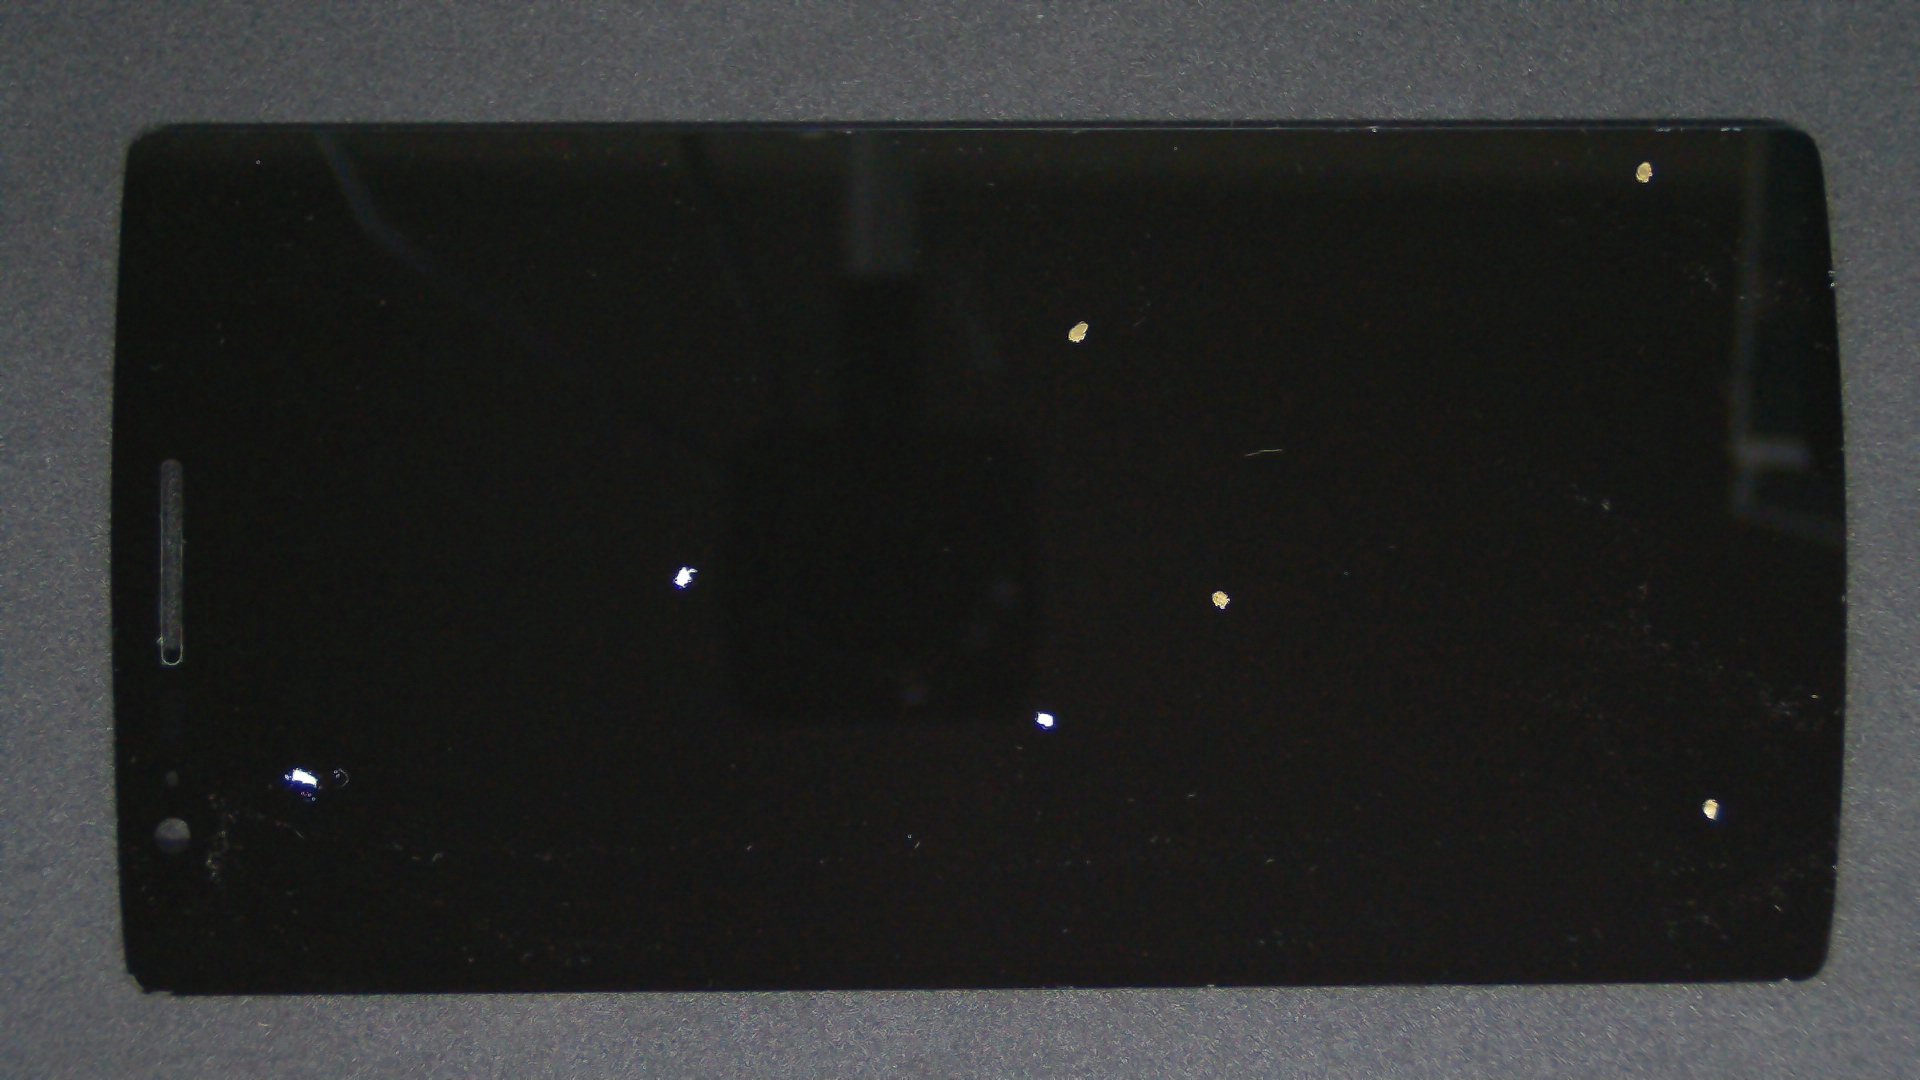defect: (282, 766, 318, 790), (671, 564, 700, 589), (1067, 319, 1091, 344), (1209, 587, 1232, 613), (1033, 708, 1056, 731), (1700, 796, 1721, 820), (1635, 160, 1654, 185)
